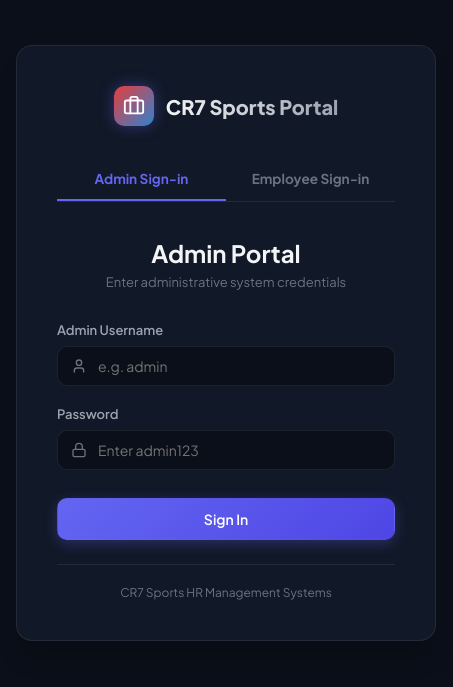
Test: LoginPage › shows error for wrong admin credentials
Step 1. Type "wronguser" into the field labelled "Admin Username" → {"x": 226, "y": 366}, box [57,346,395,386]
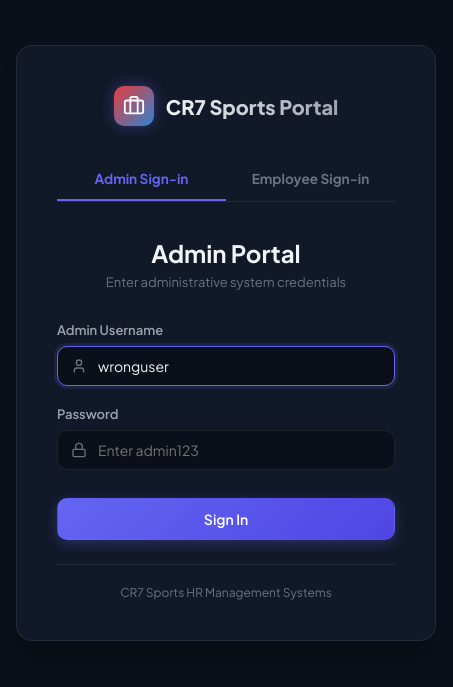
Step 2. Type "wrongpass" into the password field labelled "Password" → {"x": 226, "y": 450}, box [57,430,395,470]
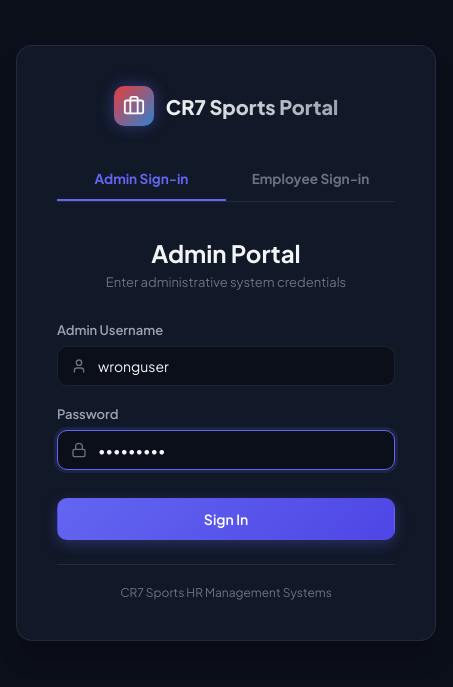
Step 3. Click the button "Sign In" → {"x": 226, "y": 519}, box [57,498,395,540]
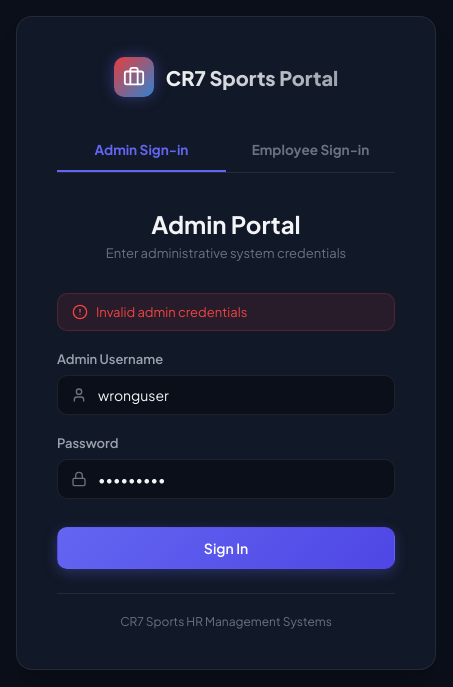
Check: the text "Invalid admin credentials" is shown, box [96,304,247,320]
